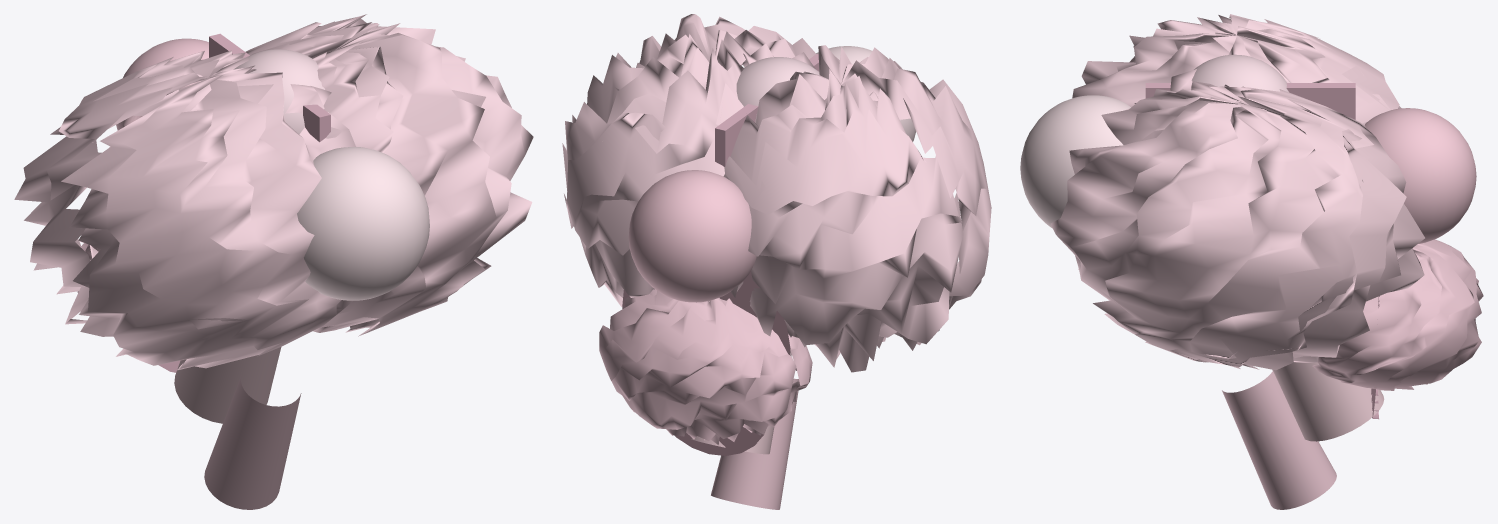
Rendered from brain.glb.
3 renders of one model, left to right at view 1: azimuth 30°, elevation 25°; view 2: azimuth 150°, elevation 25°; view 3: azimuth 270°, elevation 25°, orthographic. The views are drawn at different scales.
Visible parts, largest first — view 1: left_hemisphere, right_hemisphere, frontal_lobe, spinal_cord, brain_stem, parietal_lobe, occipital_lobe, longitudinal_fissure; view 2: left_hemisphere, right_hemisphere, cerebellum, occipital_lobe, spinal_cord, parietal_lobe, longitudinal_fissure, cerebellar_folium_6, frontal_lobe, brain_stem, cerebellar_folium_1; view 3: right_hemisphere, left_hemisphere, cerebellum, occipital_lobe, spinal_cord, frontal_lobe, brain_stem, parietal_lobe, longitudinal_fissure.
Boxes of the visible parts, x1,y1,x2,y2 form: left_hemisphere: (14, 50, 355, 370); right_hemisphere: (245, 14, 533, 336); frontal_lobe: (297, 147, 429, 300); spinal_cord: (204, 375, 301, 509); brain_stem: (174, 347, 281, 423); parietal_lobe: (233, 49, 324, 134); occipital_lobe: (116, 38, 208, 130); longitudinal_fissure: (209, 33, 330, 142); left_hemisphere: (723, 45, 991, 372); right_hemisphere: (562, 14, 815, 306); cerebellum: (599, 289, 812, 444); occipital_lobe: (628, 170, 756, 302); spinal_cord: (711, 378, 799, 509); parietal_lobe: (736, 57, 819, 122); longitudinal_fissure: (715, 54, 819, 166); cerebellar_folium_6: (674, 427, 764, 455); frontal_lobe: (816, 46, 915, 141); brain_stem: (691, 425, 774, 454); cerebellar_folium_1: (622, 271, 790, 354); right_hemisphere: (1050, 81, 1424, 370); left_hemisphere: (1072, 14, 1401, 124); cerebellum: (1312, 239, 1483, 390); occipital_lobe: (1365, 108, 1476, 243); spinal_cord: (1222, 371, 1336, 509); frontal_lobe: (1020, 95, 1130, 228); brain_stem: (1272, 362, 1384, 441); parietal_lobe: (1191, 54, 1288, 92); longitudinal_fissure: (1145, 83, 1355, 119).
Bounding box in the file's own units: 1.15 × 1.2 × 1.12.
